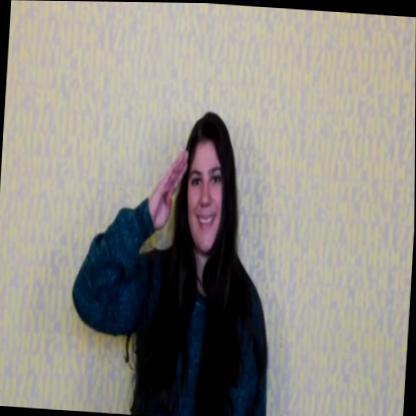Hello: (128, 109, 255, 333)
